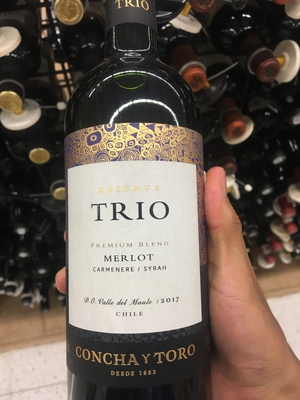trio merlot: (47, 27, 220, 388)
